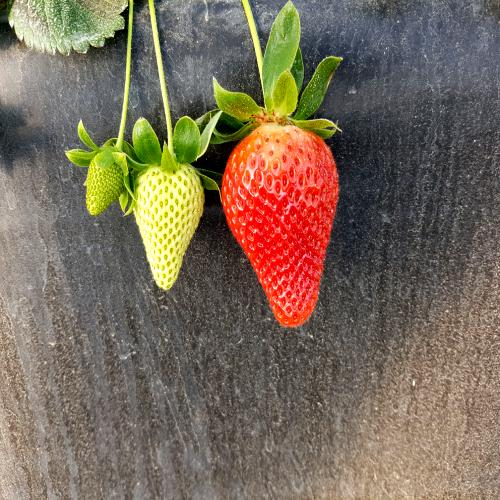ripe: (217, 112, 342, 328)
unripe: (130, 166, 207, 294)
